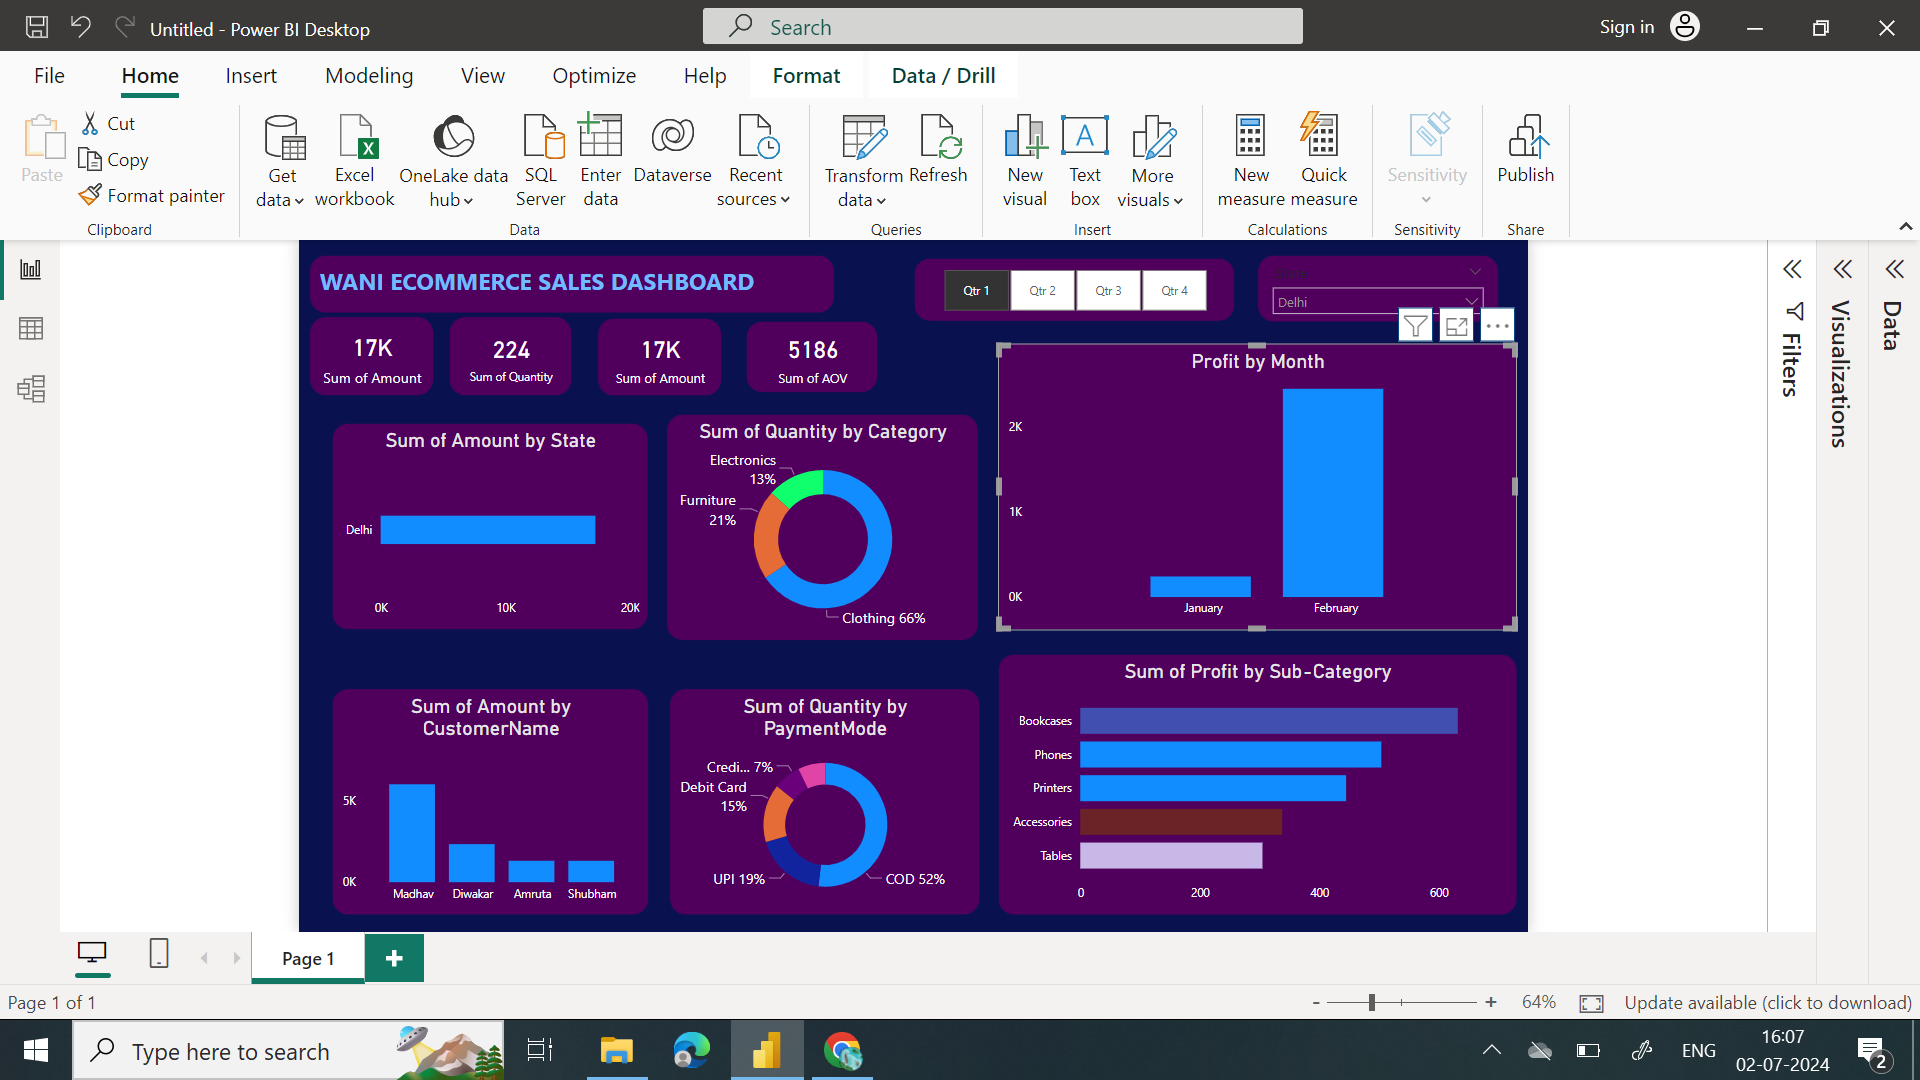

What the dashboard file says about the page in this screenshot:
{"tool":"powerbi","page":{"name":"Page 1","canvas":[1280,720],"ordinal":0},"visuals":[{"type":"textbox","box":[10.9,15.6,546.6,60.9],"z":0},{"type":"columnChart","title":"Profit by Month","fields":{"Category":["Orders.Order Date.Variation.Date Hierarchy.Month"],"Y":["Details.Profit"]},"box":[727.8,107.8,540.4,298.3],"z":1000},{"type":"barChart","fields":{"Category":["Details.Sub-Category"],"Y":["Details.Profit"]},"box":[727.8,431.1,540.4,271.8],"z":2000},{"type":"donutChart","fields":{"Category":["Details.Category"],"Y":["Details.Quantity"]},"box":[383.2,181.2,324.7,236],"z":3000},{"type":"donutChart","fields":{"Y":["Details.Quantity"],"Category":["Details.PaymentMode"]},"box":[385.8,467,323.3,235.8],"z":4000},{"type":"card","fields":{"Values":["Details.Amount"]},"box":[10.9,79.7,129.6,82.8],"z":5000},{"type":"card","fields":{"Values":["Details.Quantity"]},"box":[156.2,79.7,128.1,82.8],"z":6000},{"type":"card","fields":{"Values":["Details.Amount"]},"box":[310.8,81.2,129.6,81.2],"z":7000},{"type":"card","fields":{"Values":["Details.AOV"]},"box":[465.4,84.3,137.4,75],"z":8000},{"type":"barChart","fields":{"Category":["Orders.State"],"Y":["Details.Amount"]},"box":[34.4,190.5,329.5,215.5],"z":9000},{"type":"columnChart","fields":{"Category":["Orders.CustomerName"],"Y":["Details.Amount"]},"box":[34,467,330,236],"z":10000},{"type":"slicer","fields":{"Values":["Orders.Order Date.Variation.Date Hierarchy.Quarter"]},"box":[640,18.9,334.2,66.1],"z":11000},{"type":"slicer","fields":{"Values":["Orders.State"]},"box":[998.7,15.1,251.1,69.9],"z":11001}]}

Visuals, with their boxes on the page's 1280x720 design canvas (x1, y1, x2, y2). These are canvas units, not pixel positions in the 1920x1080 screenshot, which may show the page scaled, cropped or inside an application window:
textbox: 11 16 558 76
"Profit by Month" columnChart: 728 108 1268 406
barChart - Details.Sub-Category x Details.Profit: 728 431 1268 703
donutChart - Details.Category x Details.Quantity: 383 181 708 417
donutChart - Details.Quantity x Details.PaymentMode: 386 467 709 703
card - Details.Amount: 11 80 140 162
card - Details.Quantity: 156 80 284 162
card - Details.Amount: 311 81 440 162
card - Details.AOV: 465 84 603 159
barChart - Orders.State x Details.Amount: 34 190 364 406
columnChart - Orders.CustomerName x Details.Amount: 34 467 364 703
slicer - Orders.Order Date.Variation.Date Hierarchy.Quarter: 640 19 974 85
slicer - Orders.State: 999 15 1250 85
